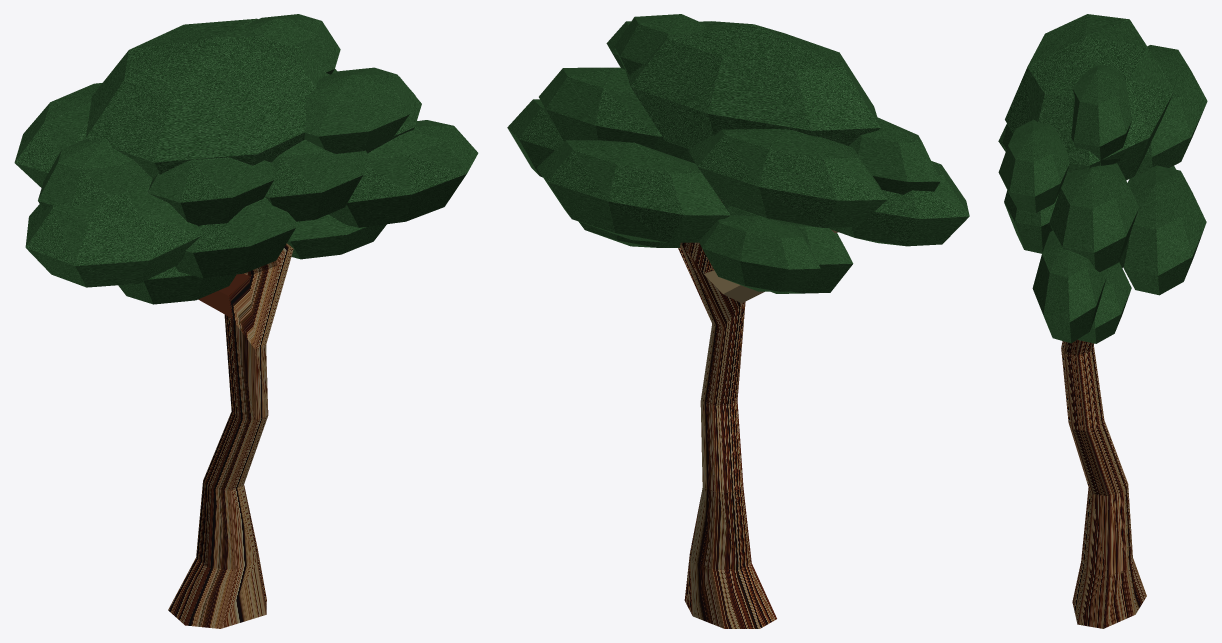
Rendered from Tree_0.FBX.
3 renders of one model, left to right at view 1: azimuth 30°, elevation 25°; view 2: azimuth 150°, elevation 25°; view 3: azimuth 270°, elevation 25°, orthographic. The views are drawn at different scales.
Visible parts, largest first — view 1: Cylinder002; view 2: Cylinder002; view 3: Cylinder002.
Part boxes in pixels (x1,y1,x2,y2): Cylinder002: (14,14,478,628); Cylinder002: (507,14,969,628); Cylinder002: (998,14,1207,628).
Bounding box in the file's own units: 55.31 × 67.73 × 22.68.
